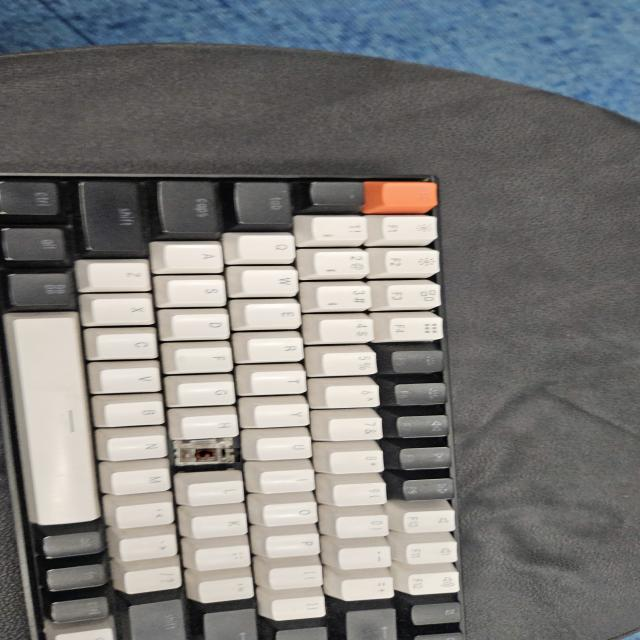C: (180, 448, 240, 462)
